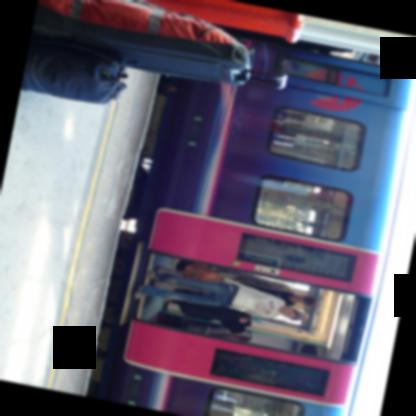backpack: (19, 31, 127, 106)
handbag: (183, 264, 222, 280)
suitcase: (28, 0, 286, 88)
